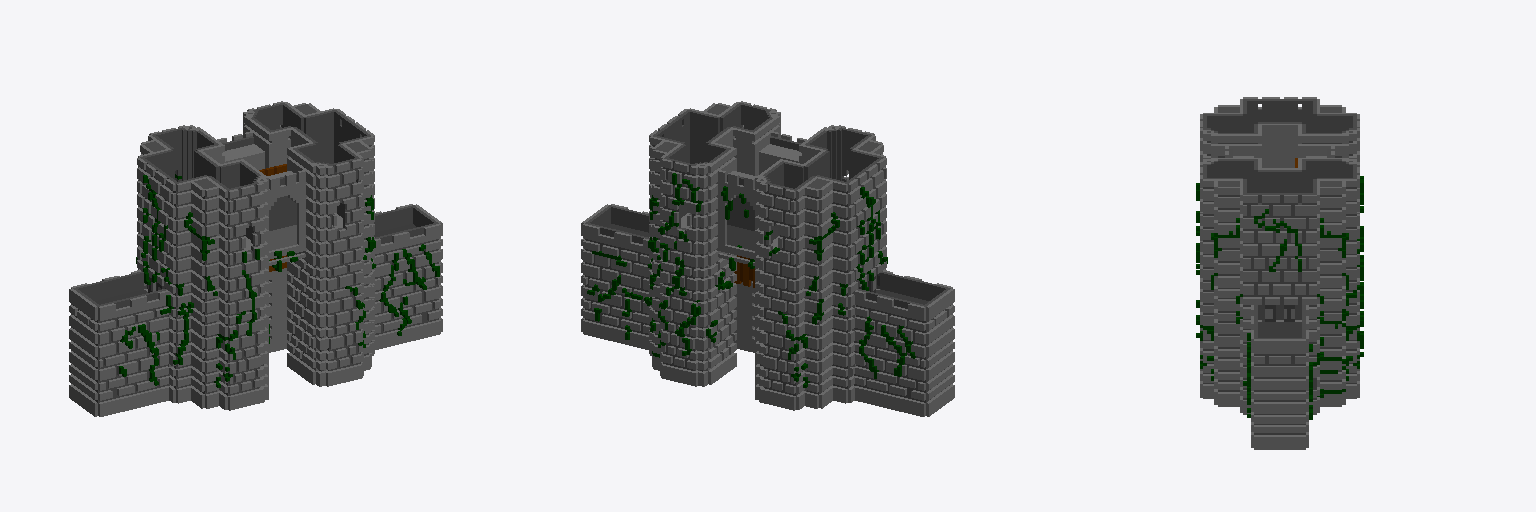
3 views of the same model, side by side, from view 1: azimuth 30°, elevation 25°; view 2: azimuth 150°, elevation 25°; view 3: azimuth 270°, elevation 25° (orthographic).
Size of the model in its own units: 110 by 66 by 46.
Materials: 1 (1 with a texture image).